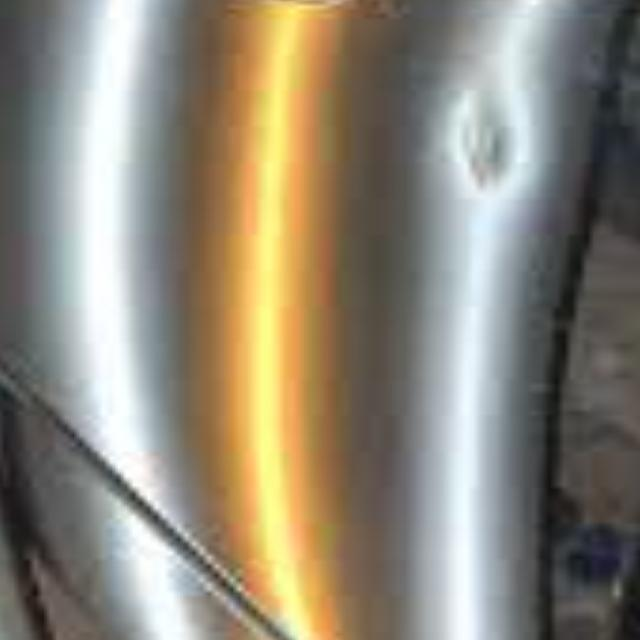dents: (425, 55, 558, 229)
